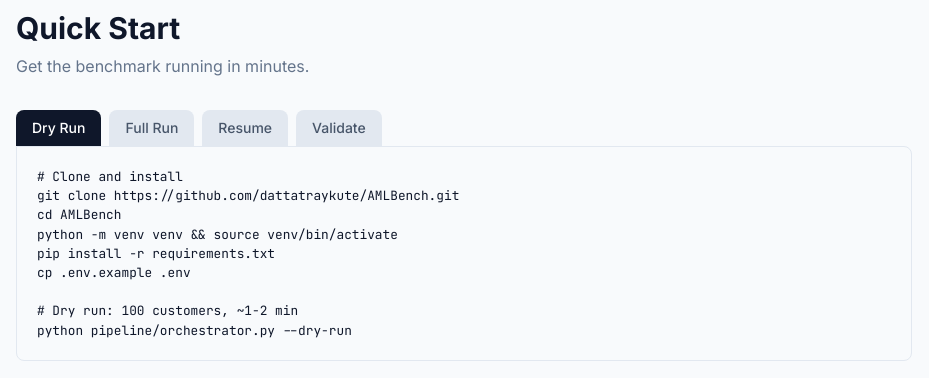
Test: QuickStart › shows full run code when Full Run tab is clicked
Click the button "Full Run": x=152, y=128 top-left (109, 110), bottom-right (194, 146)
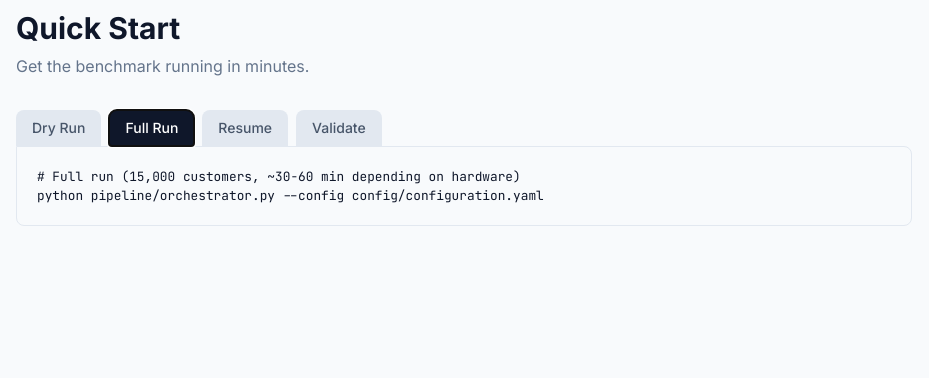
Expected: the text "configuration.yaml" is shown, top-left (37, 187), bottom-right (544, 204)
